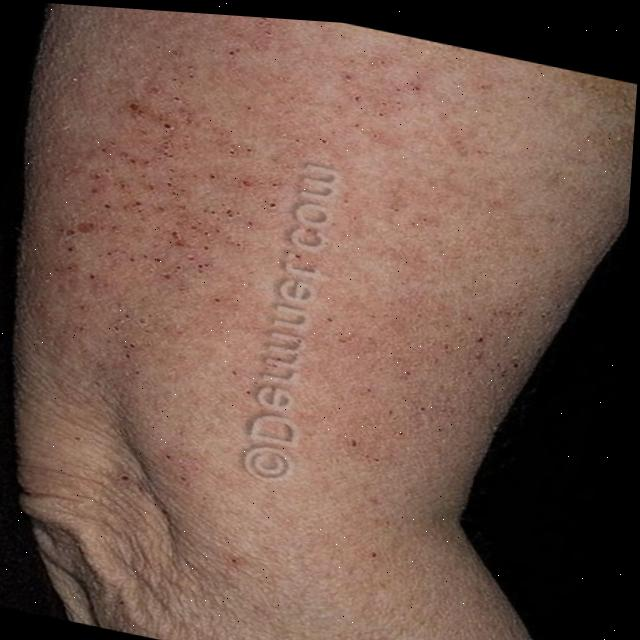Eczema: (0, 23, 513, 532)
